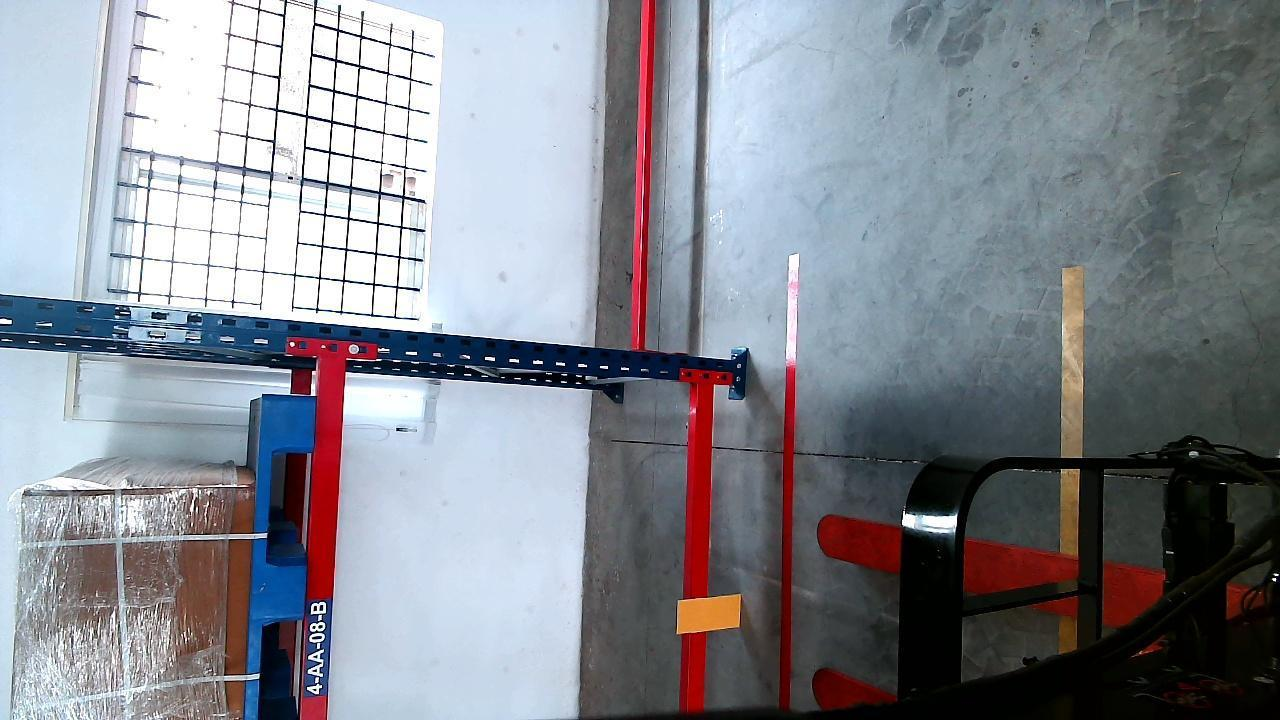h_rack: (304, 361, 345, 720), (684, 385, 714, 709)
orange_strip: (680, 594, 742, 631)
red_line: (775, 276, 800, 712)
small_pallet: (249, 402, 314, 720)
yellow_line: (1060, 261, 1083, 601)
